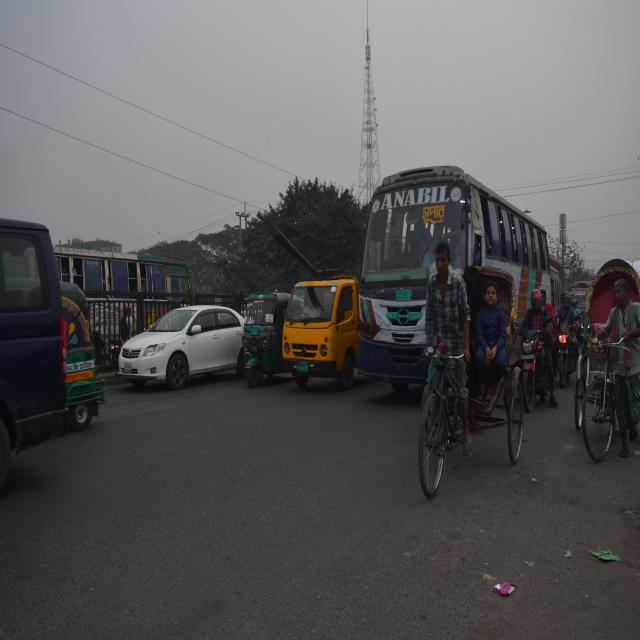bus: (358, 162, 551, 370)
car: (111, 295, 245, 398)
microbus: (0, 196, 60, 488)
motorbike: (510, 295, 554, 407), (551, 288, 583, 406)
pickup-van: (280, 263, 360, 395)
